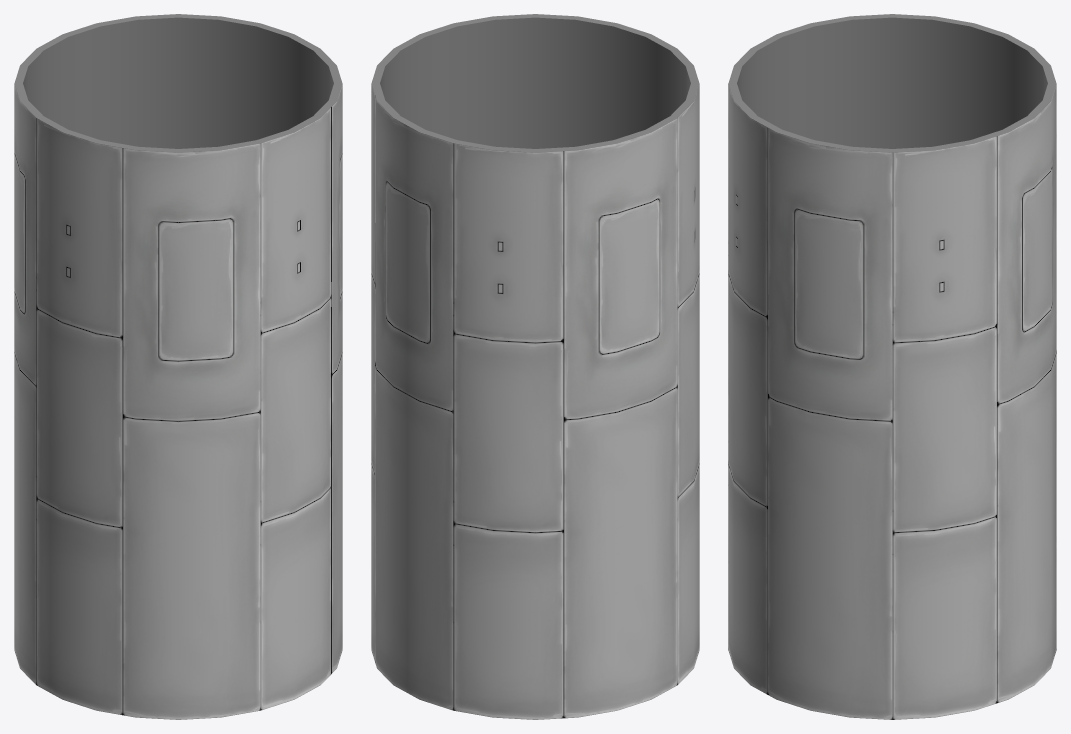
Rendered from DeltaK_Interstage.dae.
3 views of the same model, side by side, from view 1: azimuth 30°, elevation 25°; view 2: azimuth 150°, elevation 25°; view 3: azimuth 270°, elevation 25° (orthographic).
Visible parts, largest first — view 1: DeltaK_Interstage; view 2: DeltaK_Interstage; view 3: DeltaK_Interstage.
Boxes of the visible parts, x1,y1,x2,y2 form: DeltaK_Interstage: [14, 14, 342, 719]; DeltaK_Interstage: [371, 14, 699, 719]; DeltaK_Interstage: [728, 14, 1056, 719].
Size of the model in its own units: 1.5 by 2.86 by 1.5.
